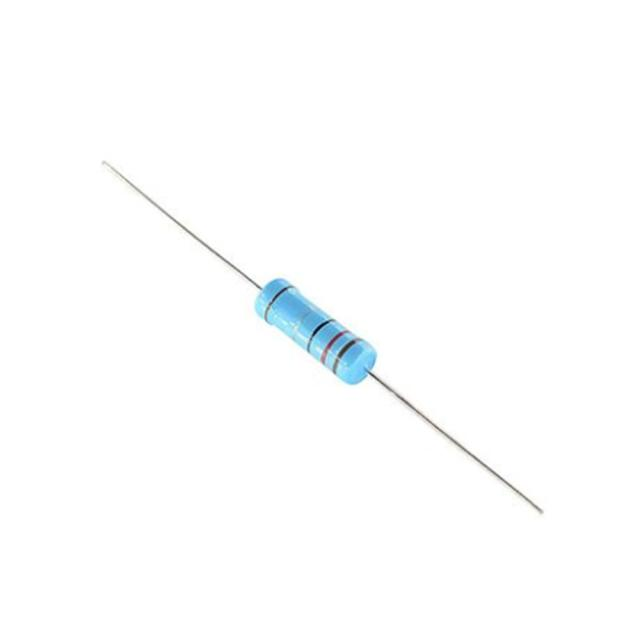Resistor: (252, 276, 382, 386)
